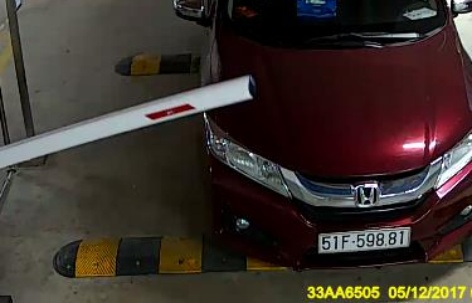plate: (311, 225, 412, 254)
